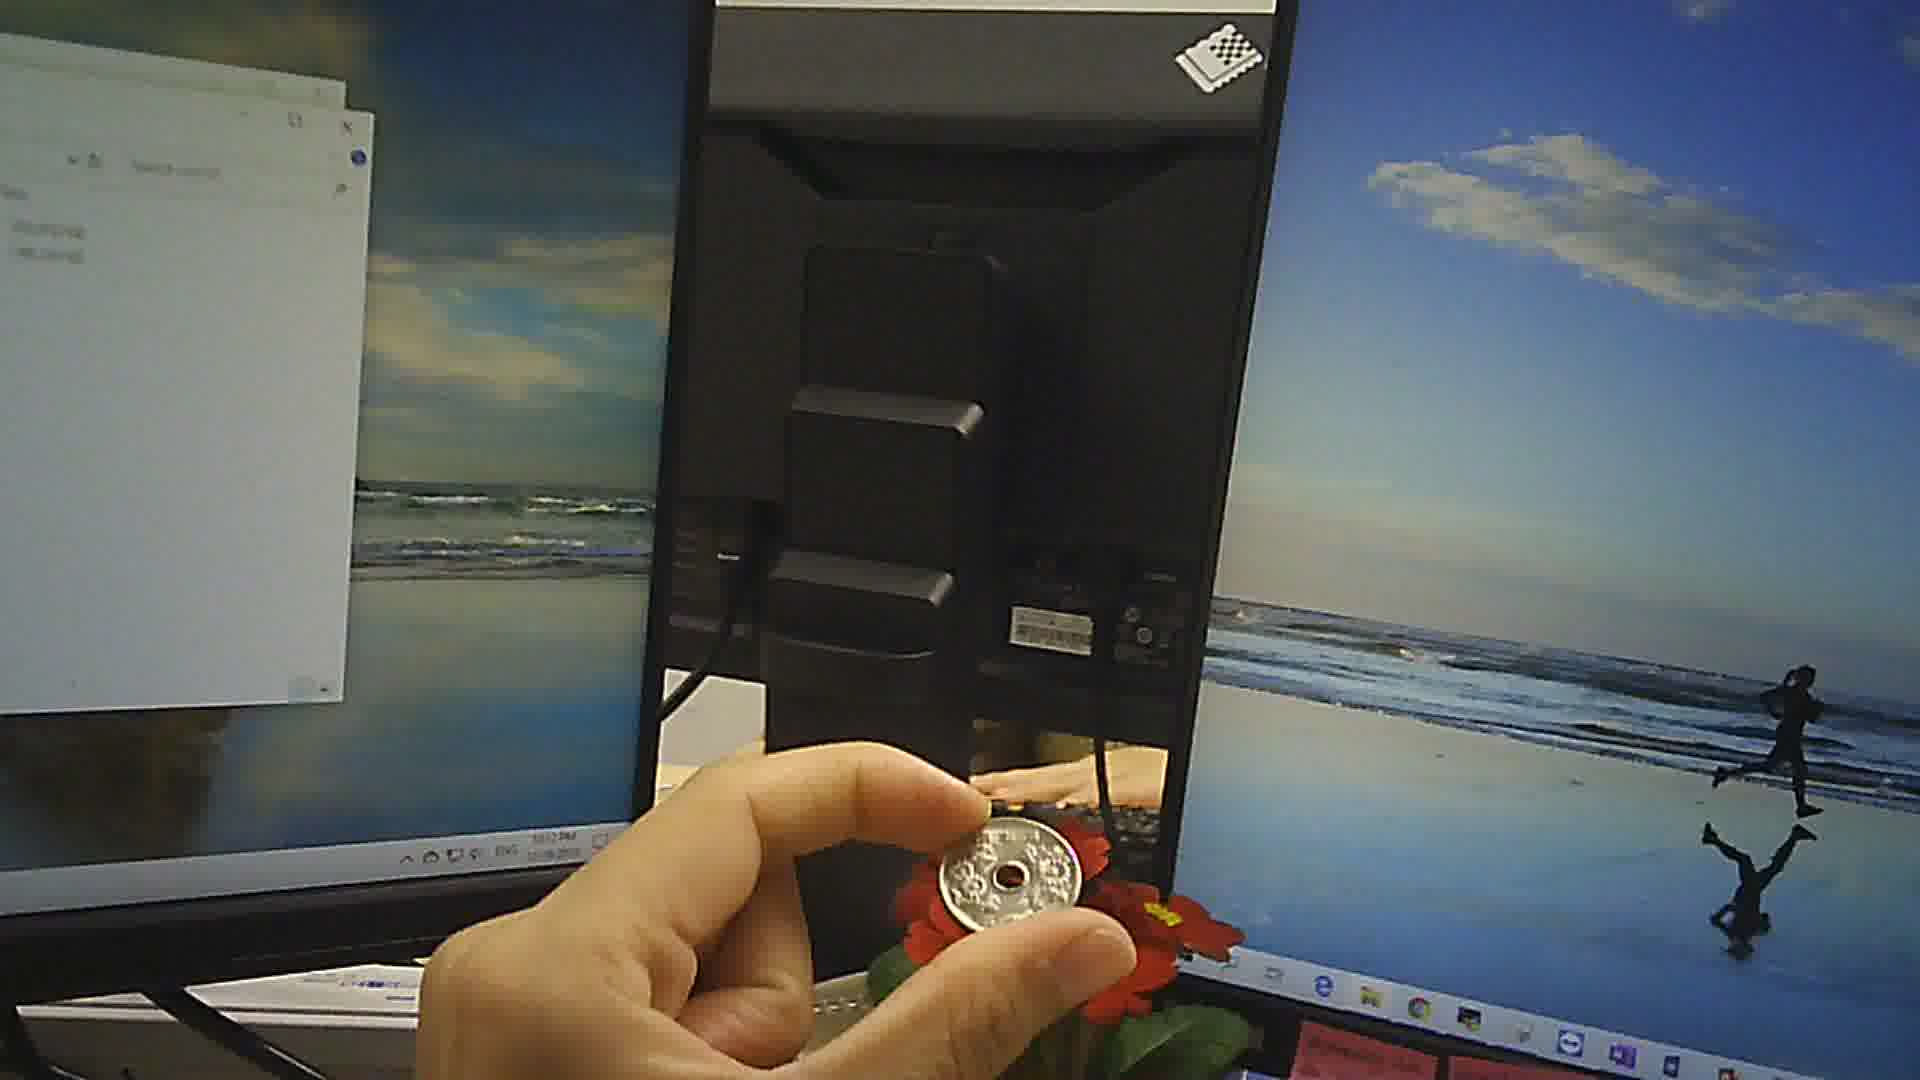50 Yen: (928, 806, 1081, 936)
